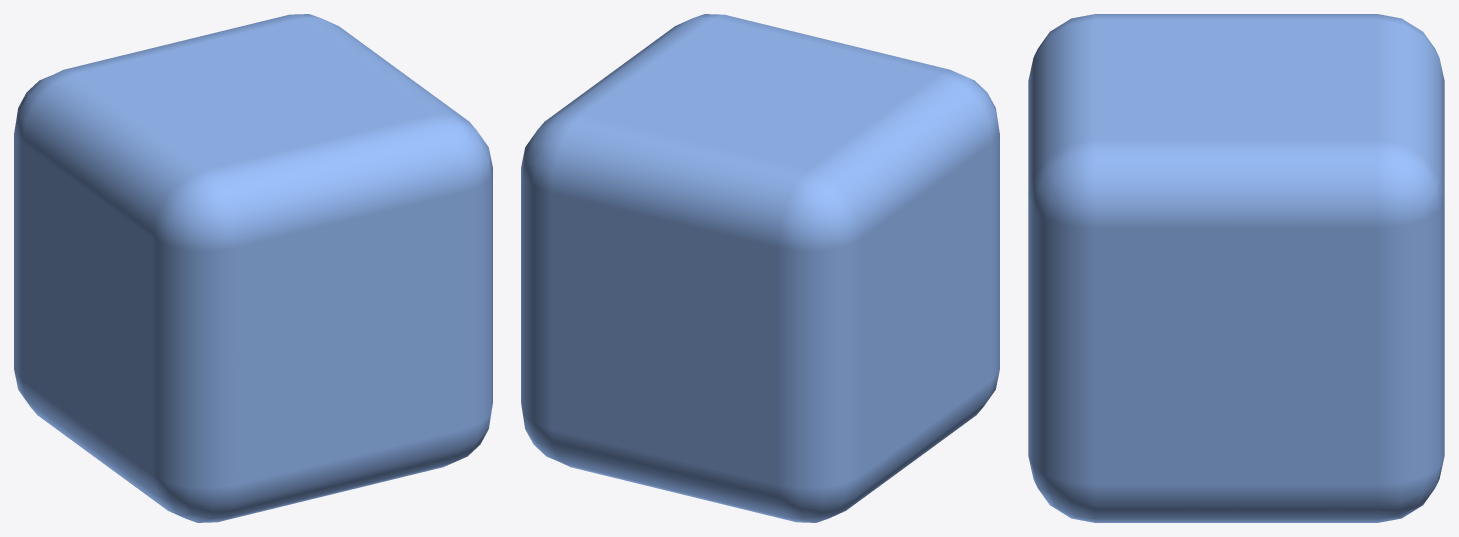
Rendered from letter_gem.glb.
The picture shows the model from 3 angles, left to right: view 1: azimuth 30°, elevation 25°; view 2: azimuth 150°, elevation 25°; view 3: azimuth 270°, elevation 25°; orthographic projection. The views are drawn at different scales.
Parts seen in each view (by area): view 1: LetterGem; view 2: LetterGem; view 3: LetterGem.
Part boxes in pixels (x1,y1,x2,y2): LetterGem: (14, 14, 492, 522); LetterGem: (521, 14, 999, 522); LetterGem: (1028, 14, 1444, 522).
Size of the model in its own units: 0.56 by 0.56 by 0.56.
